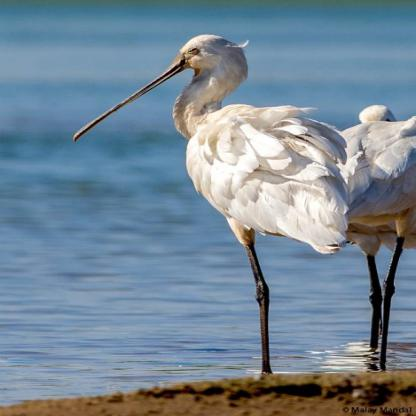Burung: (70, 34, 348, 386)
